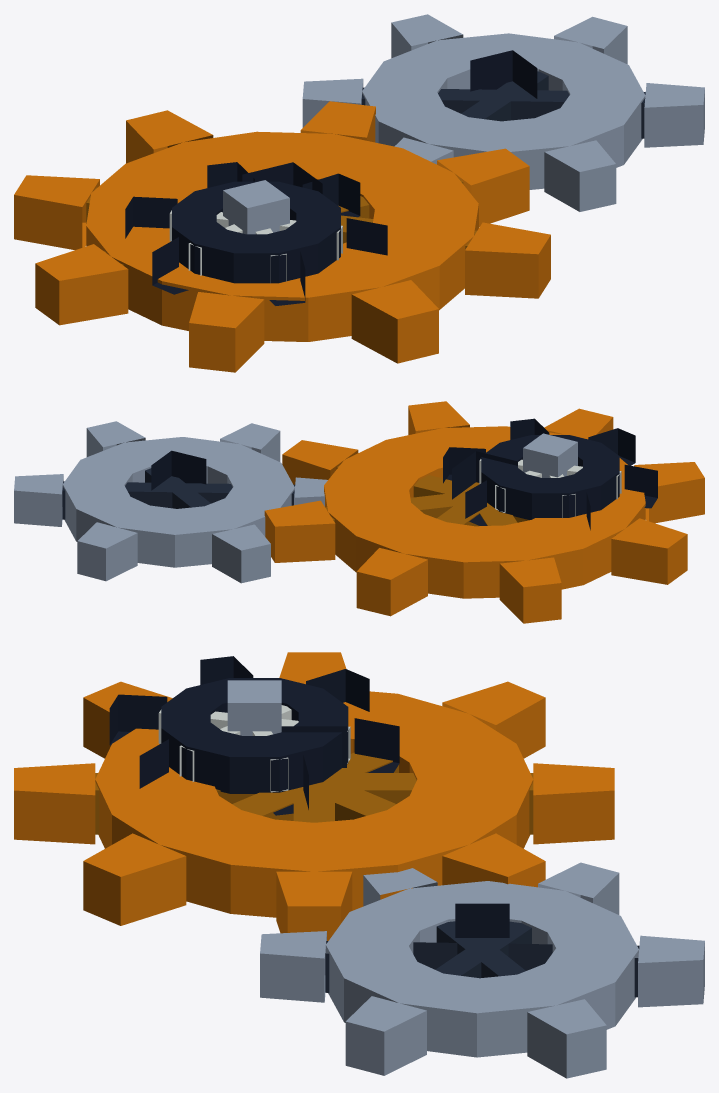
The model's file is parts.fbx.
3 renders of one model, top to bottom at view 1: azimuth 30°, elevation 25°; view 2: azimuth 150°, elevation 25°; view 3: azimuth 270°, elevation 25°, orthographic. The views are drawn at different scales.
Parts seen in each view (by area): view 1: Parts; view 2: Parts; view 3: Parts.
Boxes of the visible parts, box(x1,y1,x2,y2) form: Parts: box(14, 14, 704, 372); Parts: box(14, 401, 704, 623); Parts: box(14, 652, 704, 1078).
Size of the model in its own units: 3.27 by 0.46 by 2.55.
